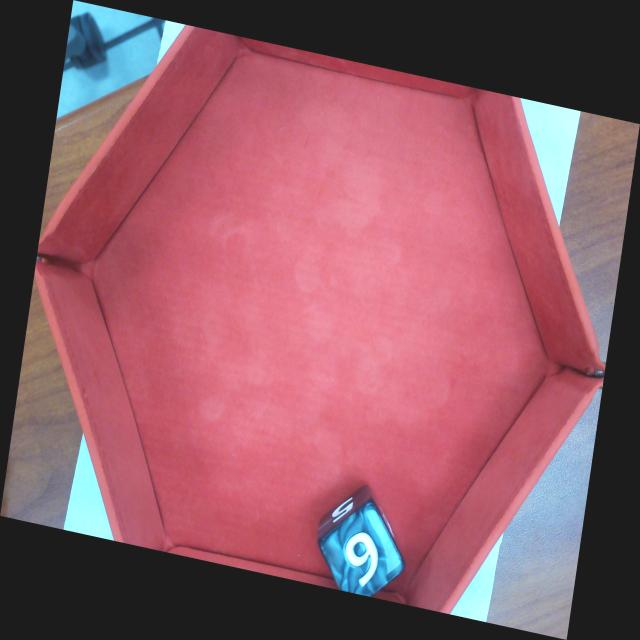dice: (324, 509, 401, 596)
